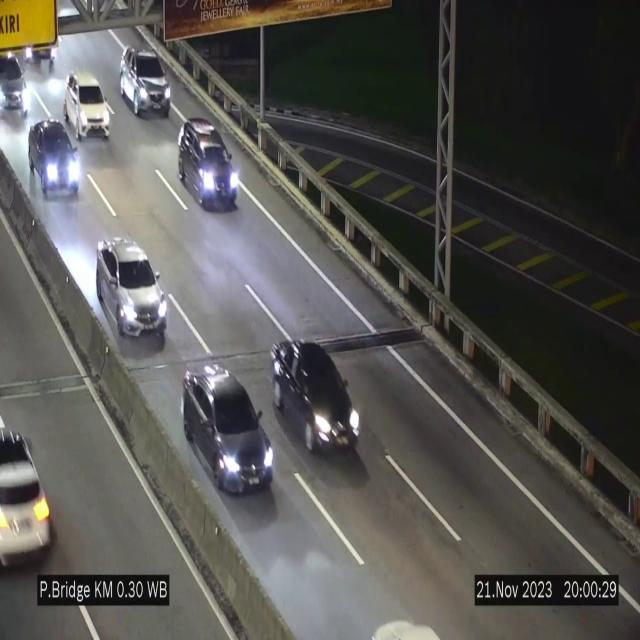Car: (271, 328, 361, 468), (181, 359, 275, 493), (0, 399, 68, 573), (96, 238, 167, 340), (178, 118, 238, 208), (29, 119, 83, 201), (120, 48, 170, 116), (64, 72, 110, 139), (0, 48, 42, 121)
